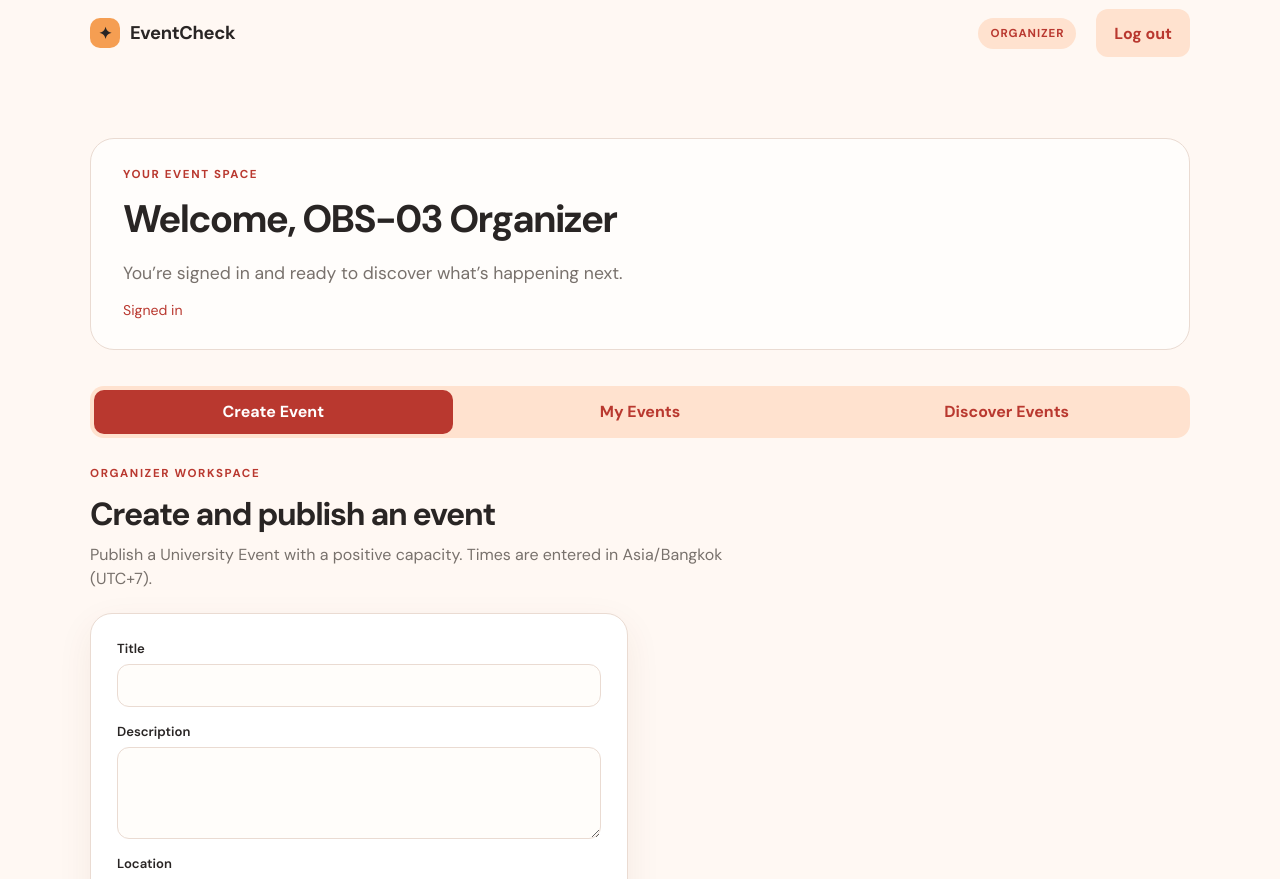
it: Issue #65 / UAT-06 / OBS-03 › rechecks the dependent End Time error when Start Time is corrected
Type "OBS-03 synthetic event" into the field labelled "Title". click: point(359, 685)
box: [117,664,601,707]
Type "Synthetic validation fixture" into the text box labelled "Description". click: point(359, 793)
box: [117,747,601,839]
(page scrolled)
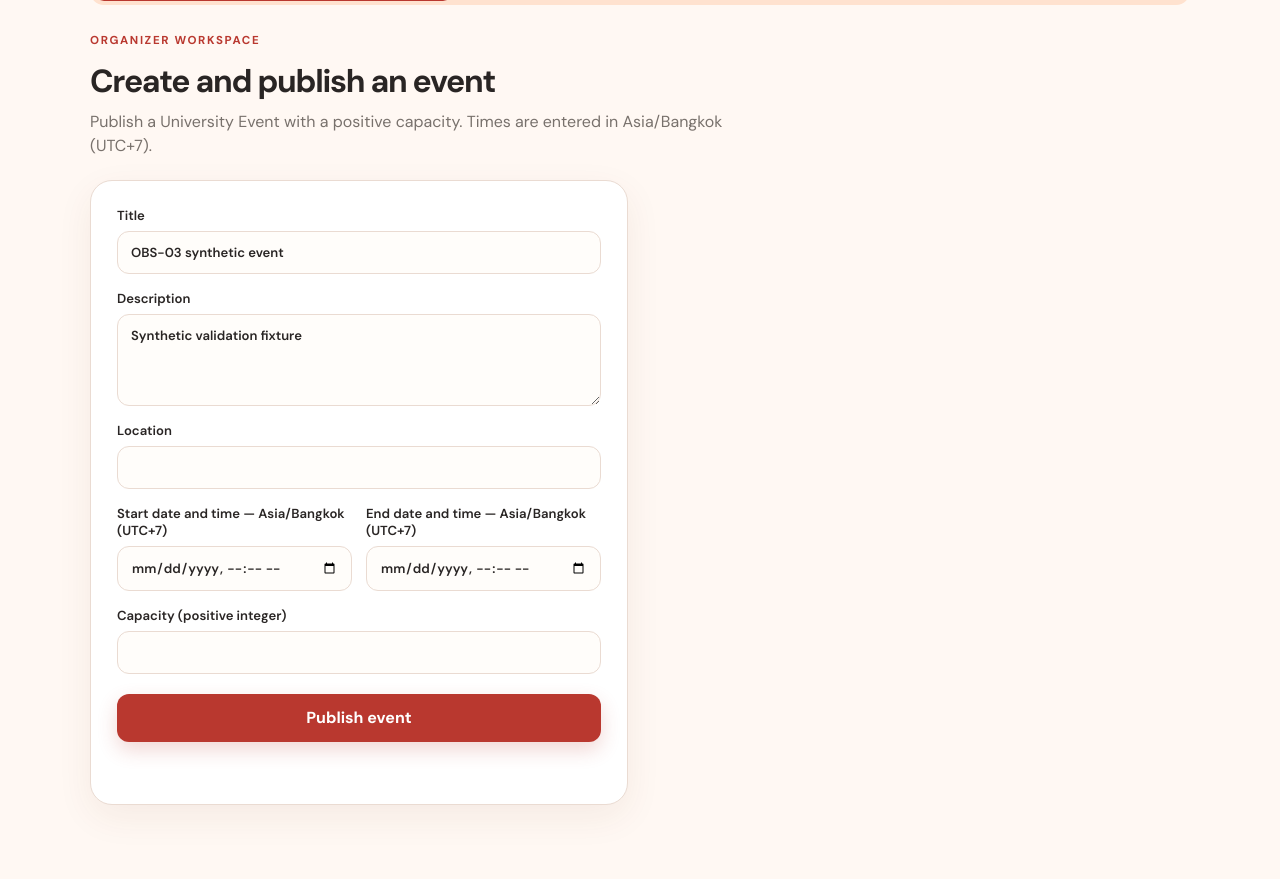
Type "Test Hall" into the field labelled "Location". click: point(359, 467)
box: [117,446,601,489]
Type "2099-11-28T09:00" into the field labelled "Start date and time — Asia/Bangkok (UTC+7)". click: point(234, 568)
box: [117,546,352,591]
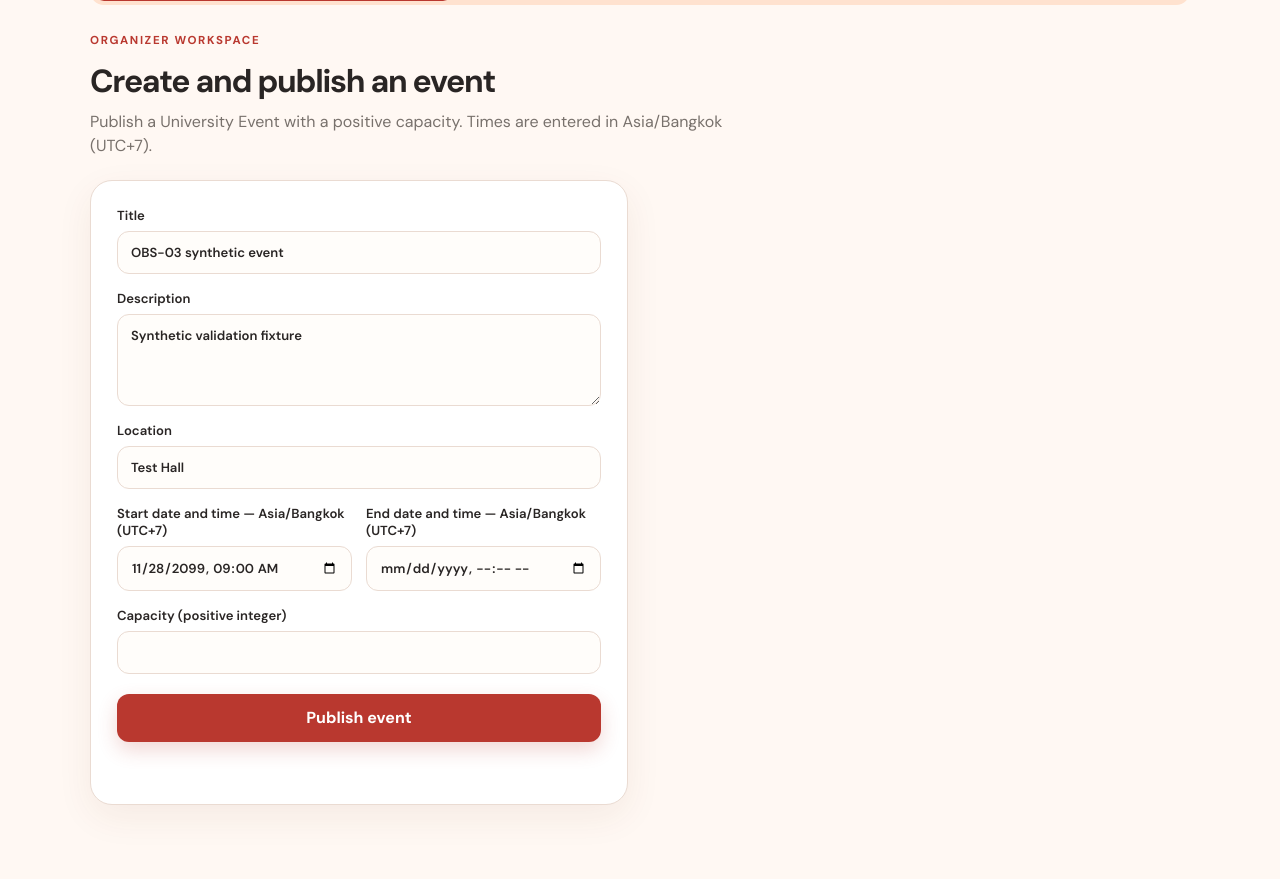
Type "2099-11-28T09:00" into the field labelled "End date and time — Asia/Bangkok (UTC+7)". click: point(484, 568)
box: [366,546,601,591]
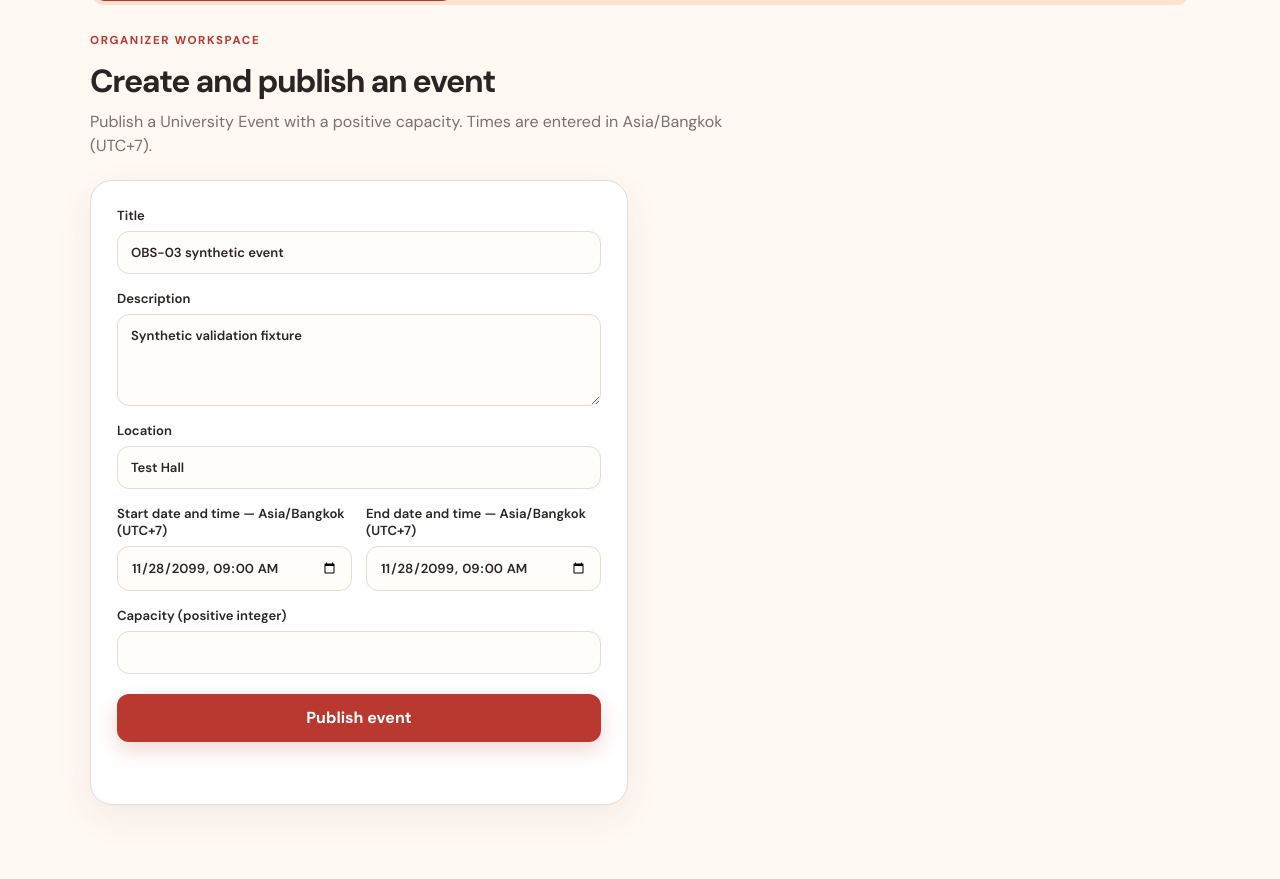
Type "1" into the number field labelled "Capacity (positive integer)". click: point(359, 652)
box: [117,631,601,674]
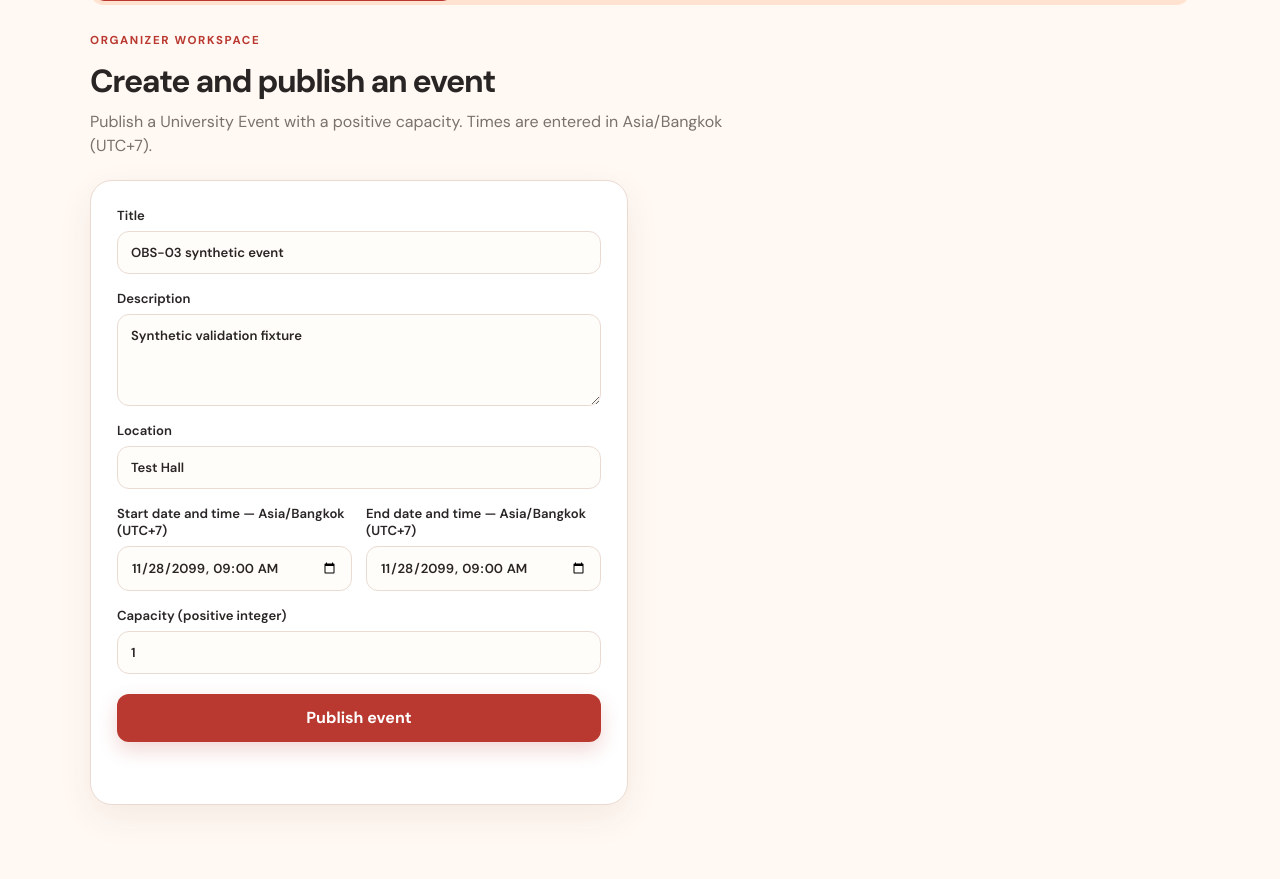
Click the button "Publish event". click: point(359, 718)
box: [117,694,601,742]
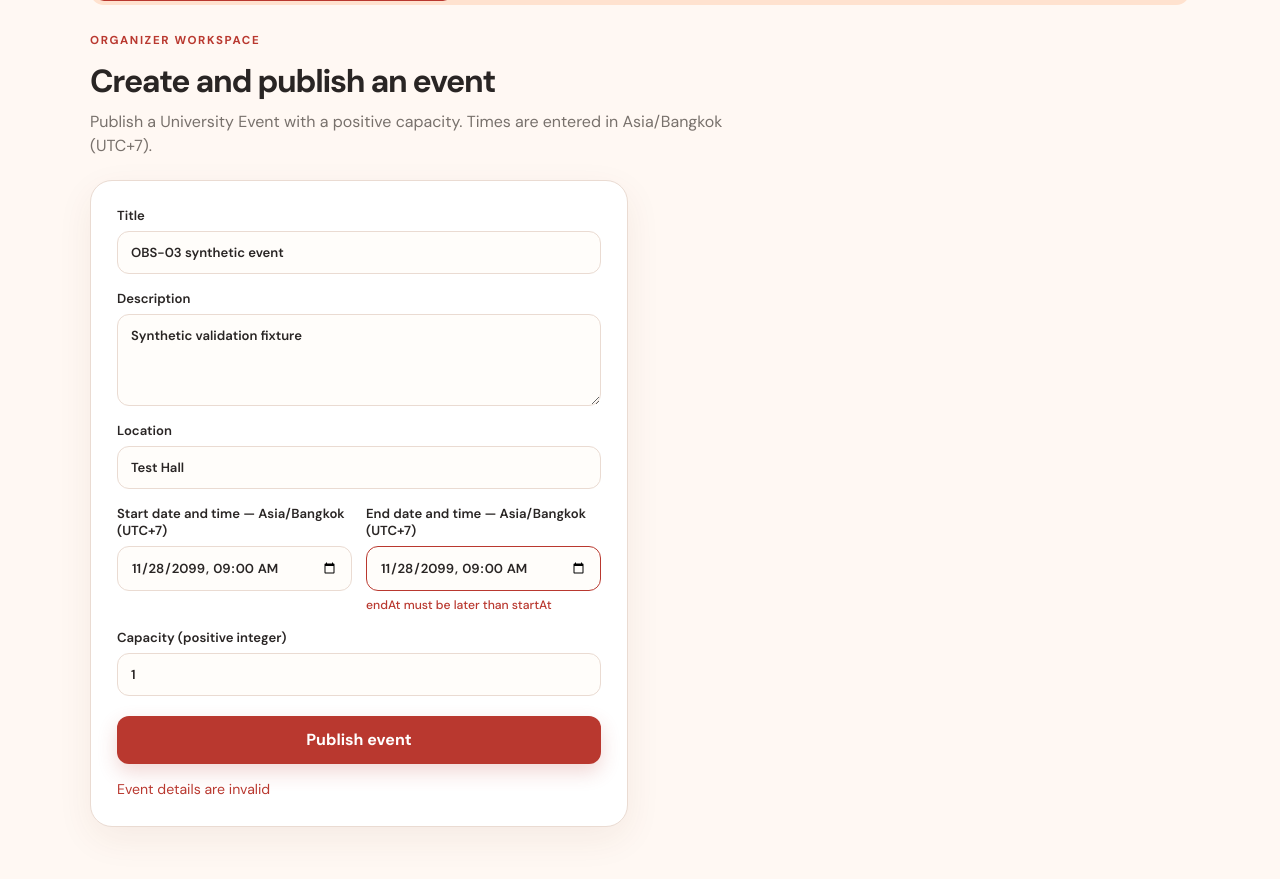
Expected: the text "endAt must be later than startAt" is shown, [366,597,552,613]
Expected: the message "Event details are invalid" is shown, [117,780,270,798]
Replace the text in the field labelled "Start date and time — Asia/Bangkok (UTC+7)" with "2099-11-28T08:00". click: point(234, 568)
box: [117,546,352,591]
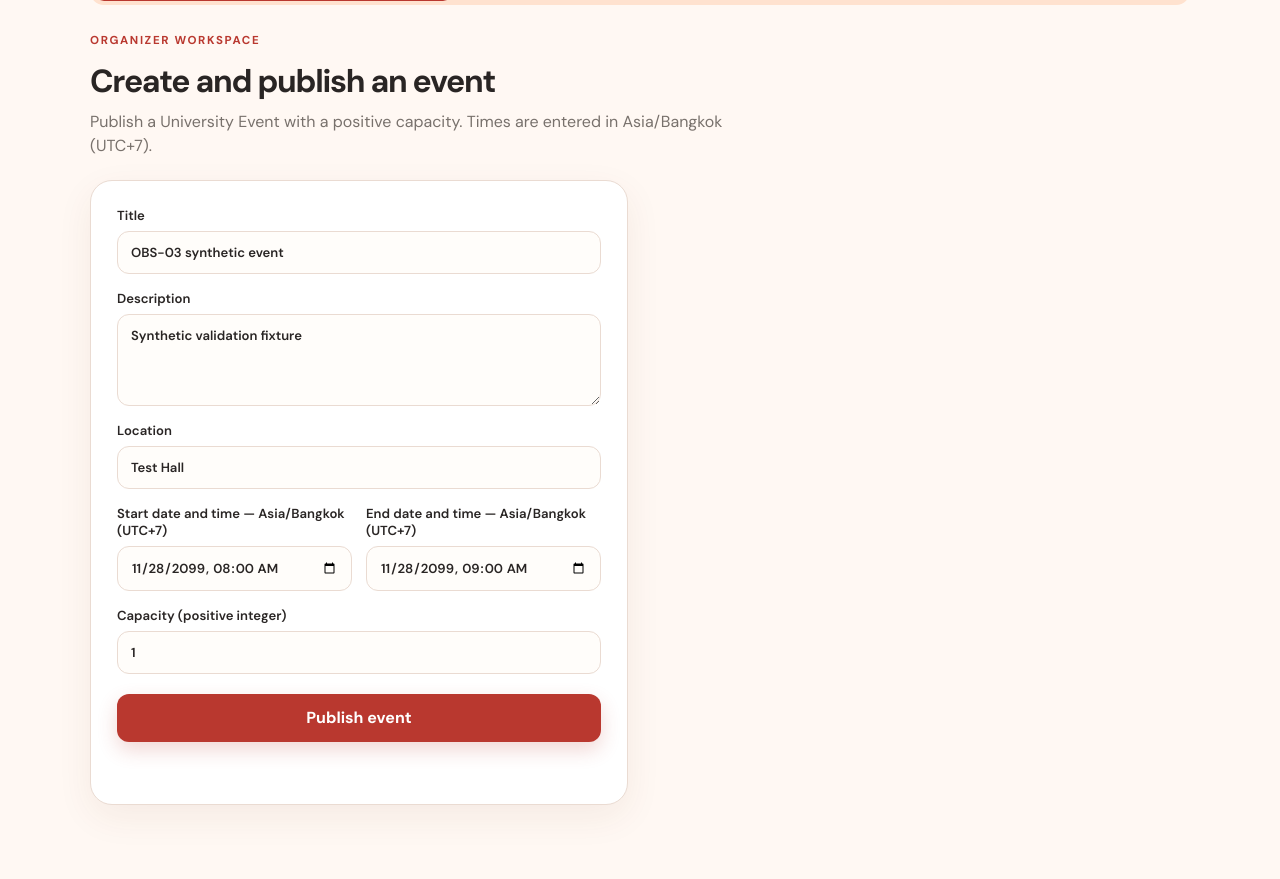
Expected: the message is empty, [117,758,601,778]
Expected: the text "endAt must be later than startAt" is gone
